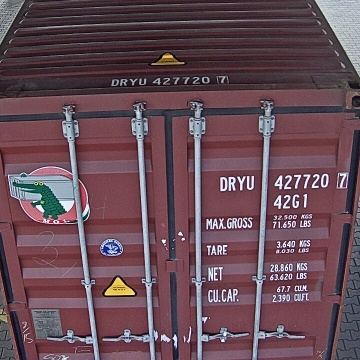serial_id: (220, 172, 347, 190)
